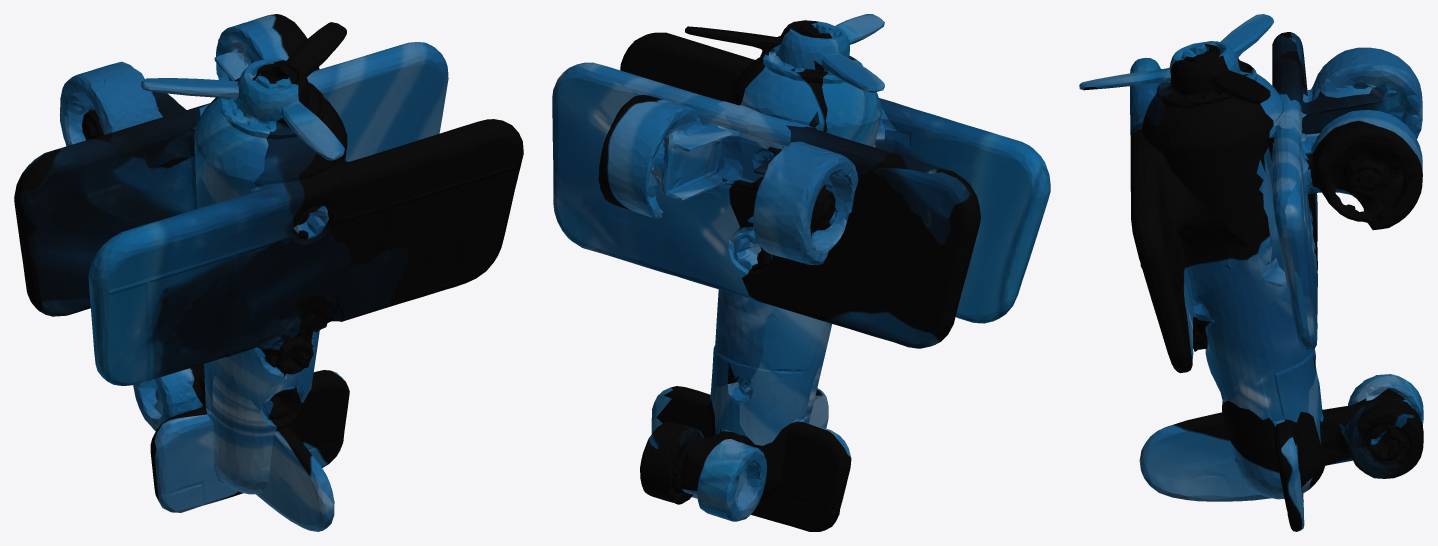
3 renders of one model, left to right at view 1: azimuth 30°, elevation 25°; view 2: azimuth 150°, elevation 25°; view 3: azimuth 270°, elevation 25°, orthographic. The views are drawn at different scales.
Parts seen in each view (by area): view 1: node; view 2: node; view 3: node.
Boxes of the visible parts, left/top/right/bottom form: node: left=14, top=14, right=523, bottom=531; node: left=552, top=14, right=1050, bottom=531; node: left=1079, top=14, right=1423, bottom=531.
Bounding box in the file's own units: 0.2552 × 0.2629 × 0.1834.
